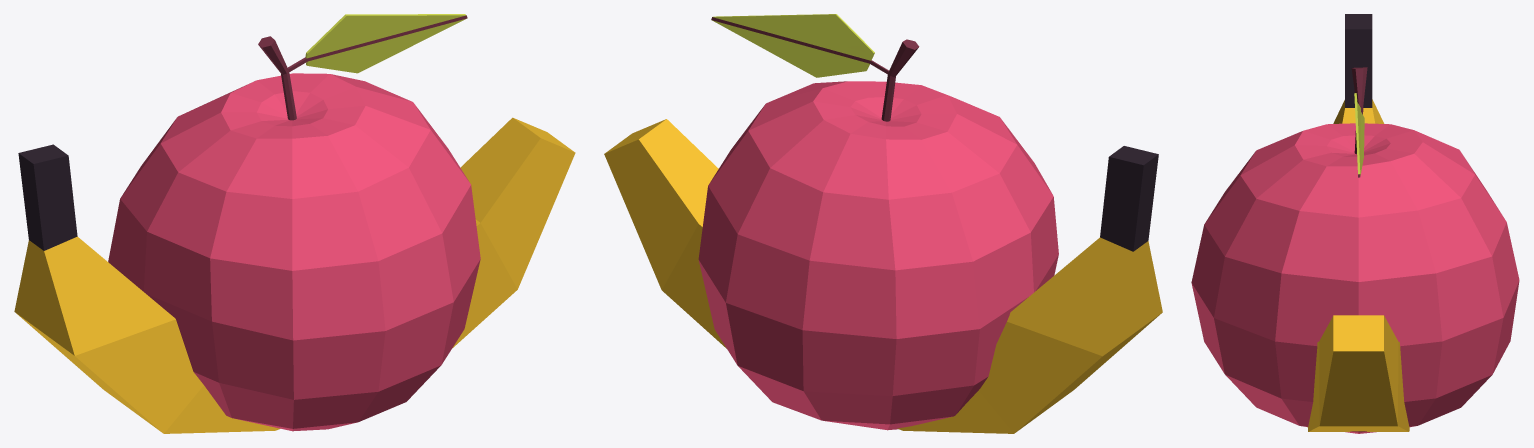
Rendered from Food.fbx.
The picture shows the model from 3 angles, left to right: view 1: azimuth 30°, elevation 25°; view 2: azimuth 150°, elevation 25°; view 3: azimuth 270°, elevation 25°; orthographic projection. The views are drawn at different scales.
Parts seen in each view (by area): view 1: Apple, Banana; view 2: Apple, Banana; view 3: Apple, Banana.
Boxes of the visible parts, x1=… form: Apple: x1=108, y1=14, x2=480, y2=431; Banana: x1=14, y1=117, x2=575, y2=433; Apple: x1=698, y1=14, x2=1058, y2=430; Banana: x1=604, y1=119, x2=1162, y2=433; Apple: x1=1191, y1=67, x2=1519, y2=433; Banana: x1=1307, y1=14, x2=1409, y2=431.
Bounding box in the file's own units: 41.47 × 27.9 × 24.51.
